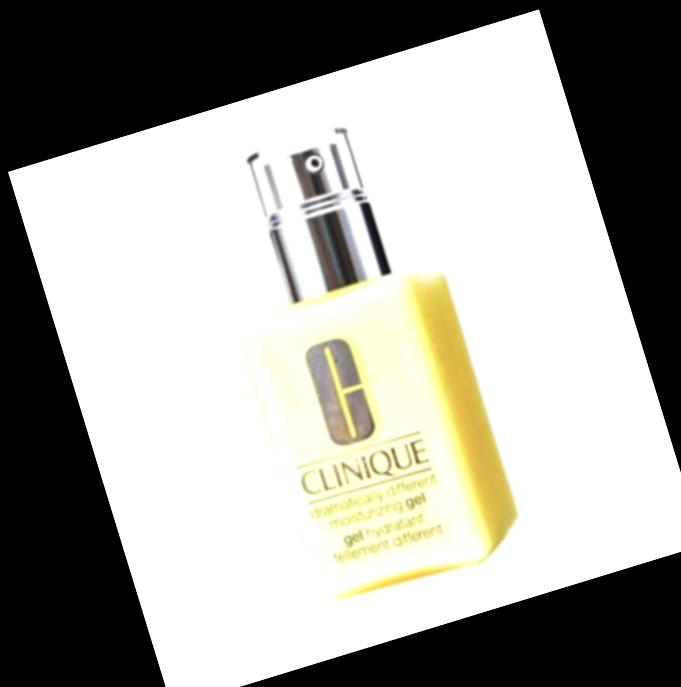cosmetic: (184, 103, 528, 607)
